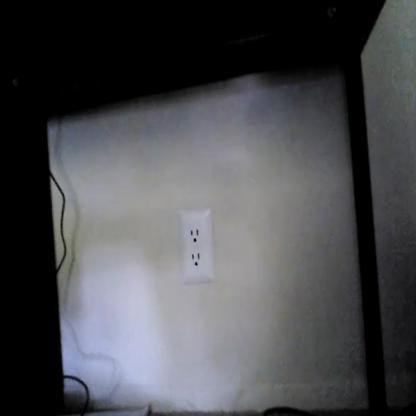OUTLET: (178, 209, 214, 285)
